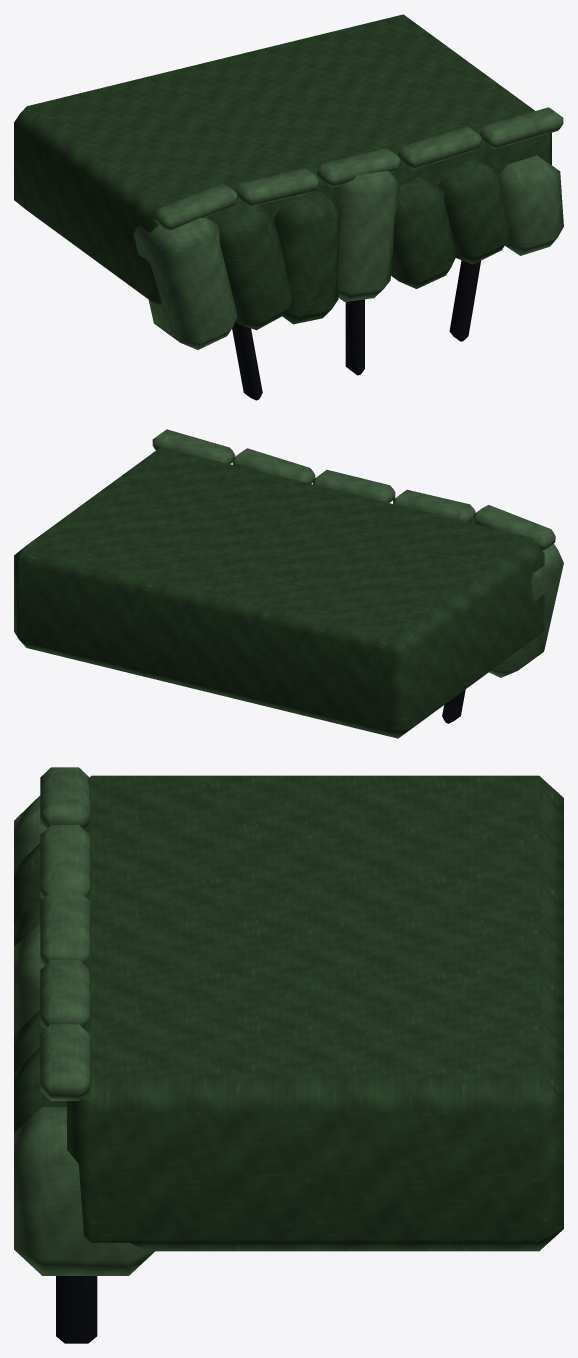
The model's file is jungle_root_bank.glb.
3 renders of one model, top to bottom at view 1: azimuth 30°, elevation 25°; view 2: azimuth 150°, elevation 25°; view 3: azimuth 270°, elevation 25°, orthographic. The views are drawn at different scales.
Parts seen in each view (by area): view 1: jungle_root_bank - machine_jungle panels, jungle_root_bank - machine_jungle trim, jungle_root_bank - Recessed iron; view 2: jungle_root_bank - machine_jungle panels, jungle_root_bank - machine_jungle trim, jungle_root_bank - Recessed iron; view 3: jungle_root_bank - machine_jungle panels, jungle_root_bank - machine_jungle trim, jungle_root_bank - Recessed iron.
Boxes of the visible parts, x1,y1,x2,y2 form: jungle_root_bank - machine_jungle panels: (14, 14, 551, 330); jungle_root_bank - machine_jungle trim: (133, 107, 563, 349); jungle_root_bank - Recessed iron: (232, 260, 480, 400); jungle_root_bank - machine_jungle panels: (14, 447, 544, 738); jungle_root_bank - machine_jungle trim: (152, 429, 563, 677); jungle_root_bank - Recessed iron: (442, 689, 465, 723); jungle_root_bank - machine_jungle panels: (14, 775, 563, 1251); jungle_root_bank - machine_jungle trim: (14, 767, 154, 1275); jungle_root_bank - Recessed iron: (56, 1276, 97, 1343).
Size of the model in its own units: 6.01 by 3.12 by 4.26.
3 materials, 3 textured.
